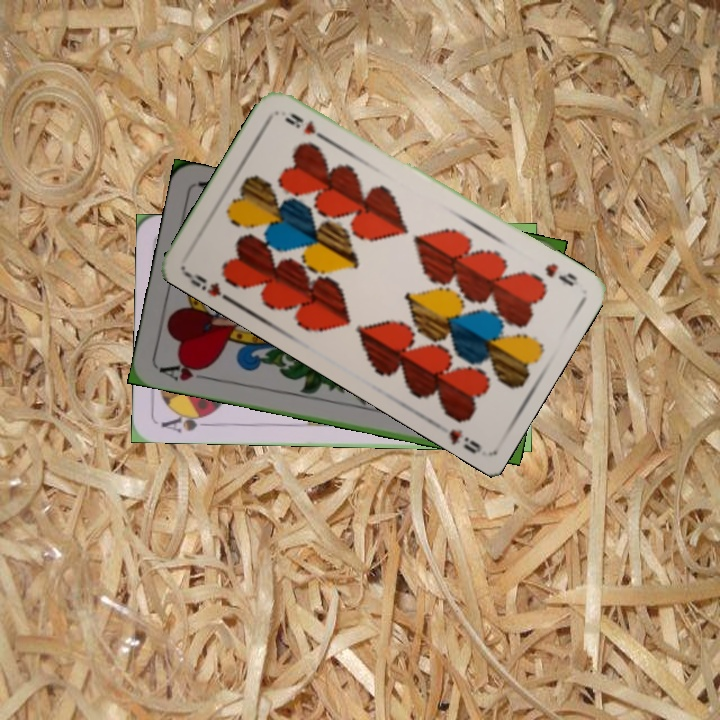H9: (181, 268, 235, 306), (540, 259, 580, 289)
HA: (155, 357, 215, 384)
SA: (157, 408, 216, 435)
